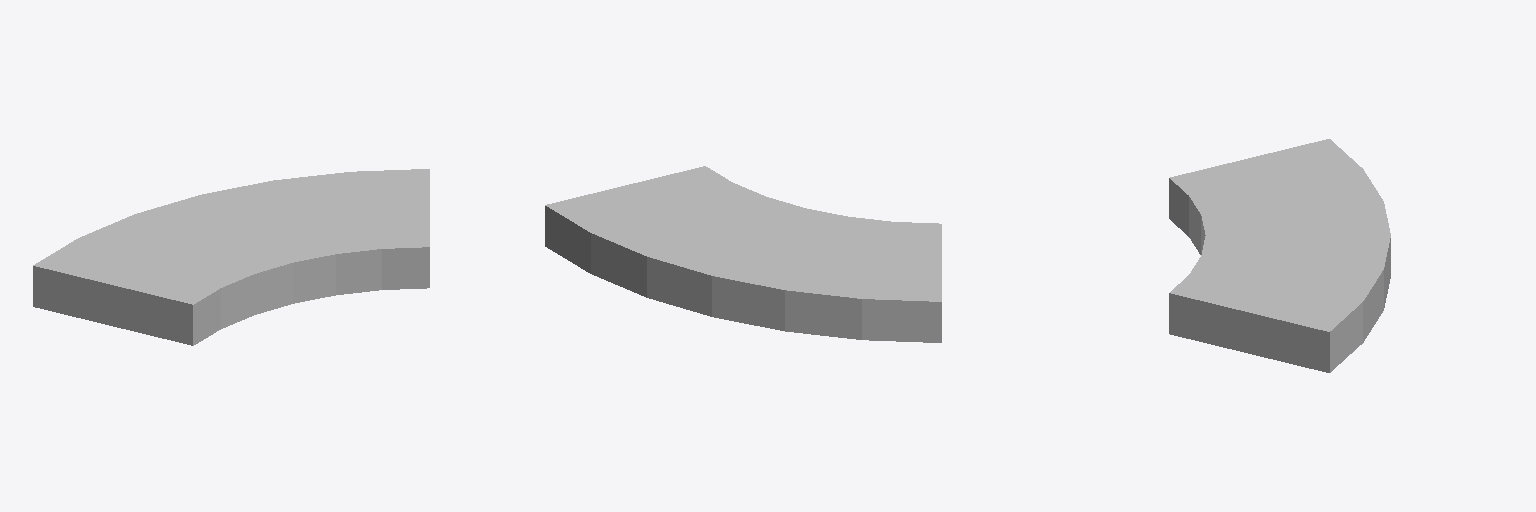
The model's file is sector60.obj.
3 renders of one model, left to right at view 1: azimuth 30°, elevation 25°; view 2: azimuth 150°, elevation 25°; view 3: azimuth 270°, elevation 25°, orthographic.
Visible parts, largest first — view 1: Окружность_Окружность.004; view 2: Окружность_Окружность.004; view 3: Окружность_Окружность.004.
Part boxes in pixels (x1,y1,x2,y2): Окружность_Окружность.004: (33,169,429,345); Окружность_Окружность.004: (545,166,941,342); Окружность_Окружность.004: (1169,139,1390,372).
Bounding box in the file's own units: 5.04 × 0.5 × 2.44.